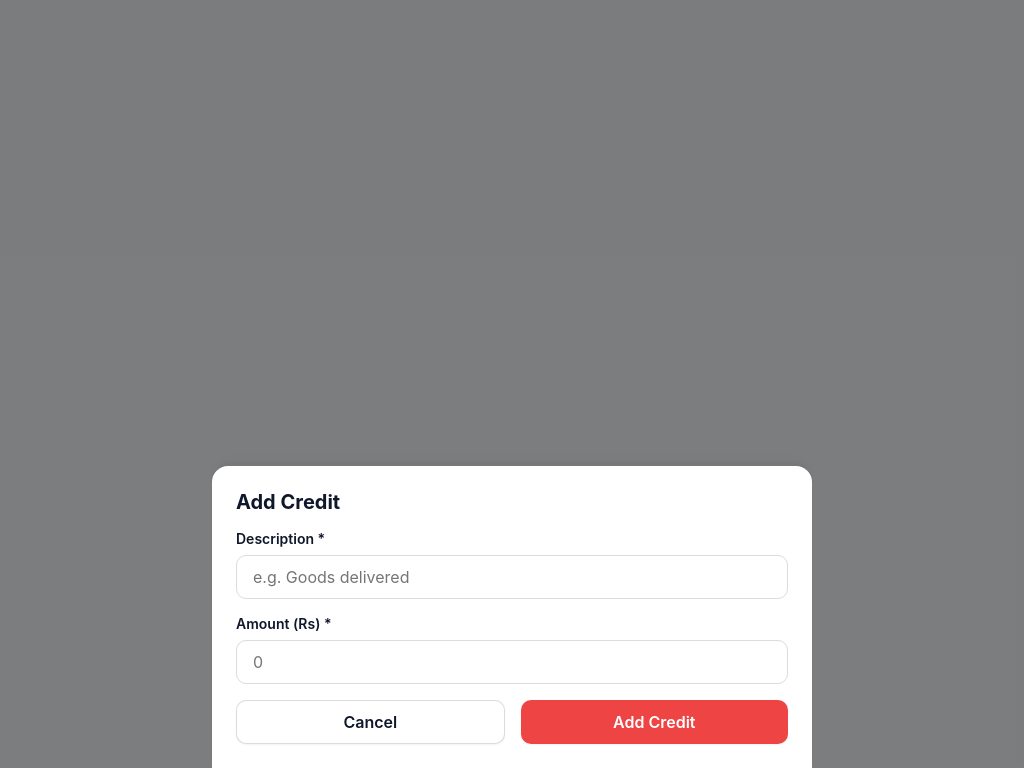
Scenario: AddCreditForm › Loading state › disables Add Credit button during loading
This screenshot has width=1024, height=768.
Type "Credit" into the field labelled "Description *" at (512, 577), box 236,555 -> 788,599
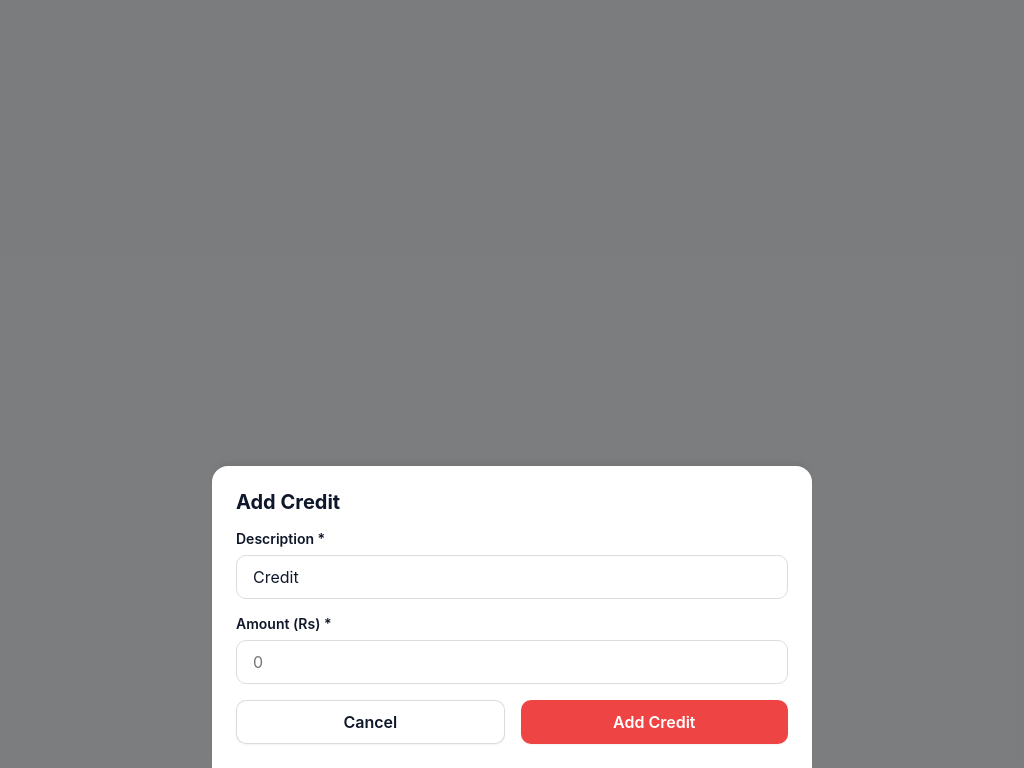
Type "50" into the number field labelled "Amount (Rs) *" at (512, 662), box 236,640 -> 788,684
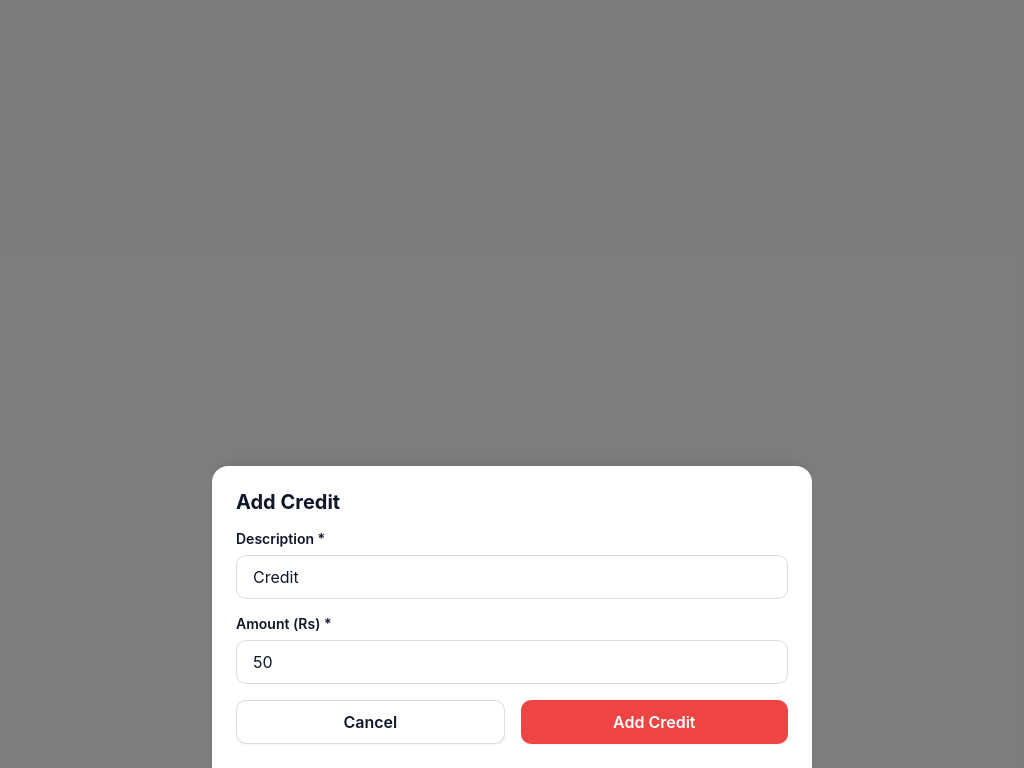
Click the button "Add Credit" at (654, 722), box 520,700 -> 788,744
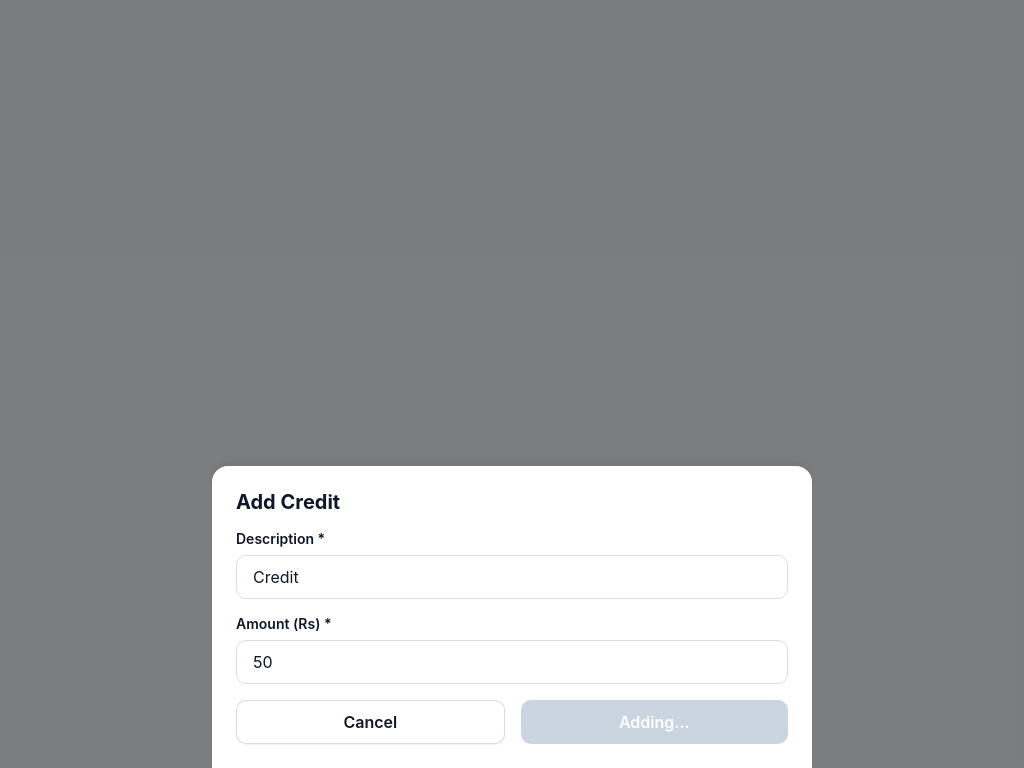
Check: the button named "Add Credit" reads "Adding...", box 520,700 -> 788,744
Check: the button named "Add Credit" is disabled, box 520,700 -> 788,744
